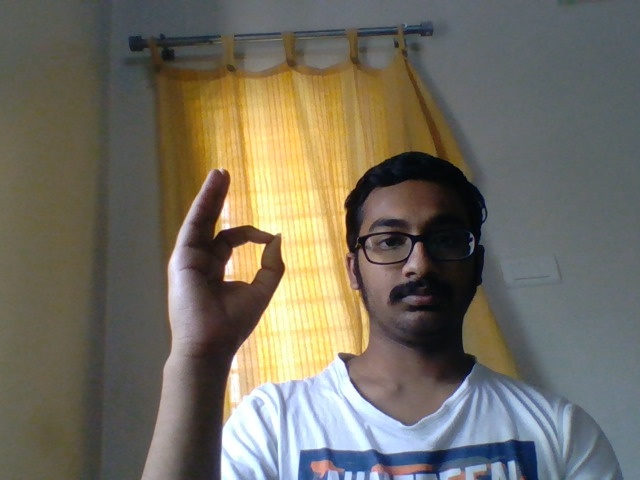hello: (142, 147, 303, 392)
